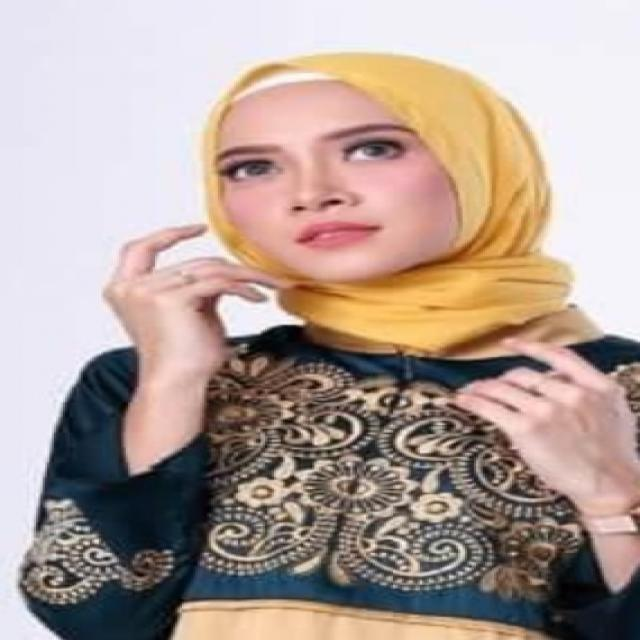head: (184, 45, 540, 312)
